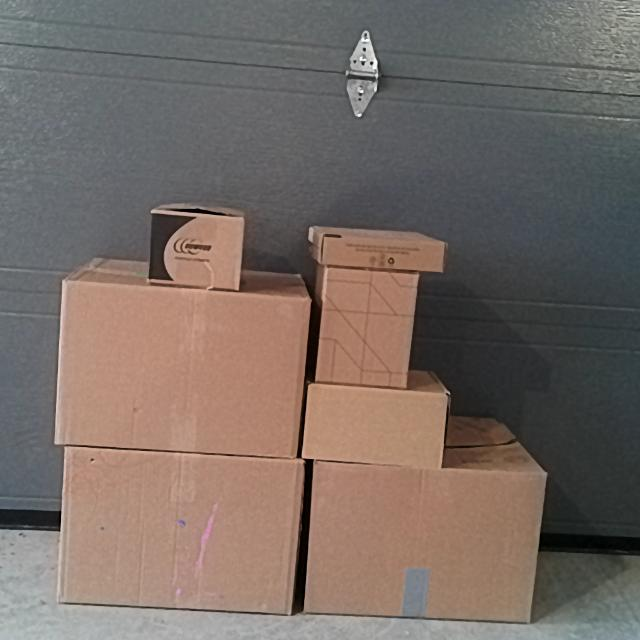box: (60, 288, 306, 448), (61, 454, 304, 606), (310, 470, 537, 615), (321, 271, 416, 385), (307, 384, 444, 462), (150, 208, 242, 292), (318, 241, 445, 267)
